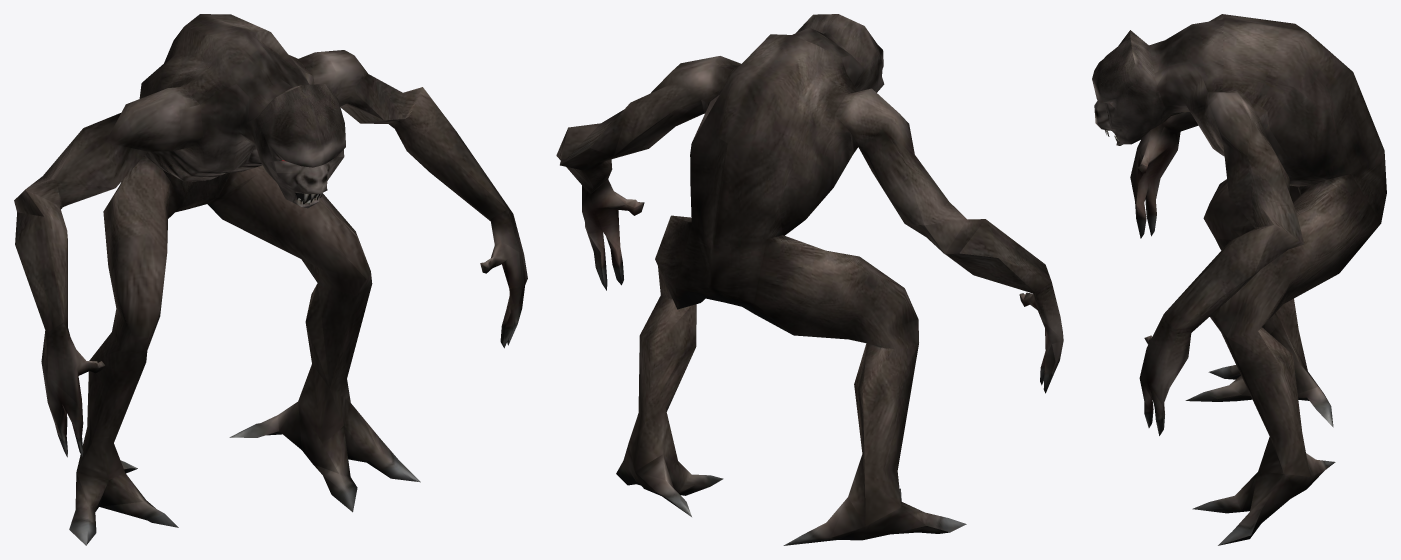
File: monkey.obj
3 renders of one model, left to right at view 1: azimuth 30°, elevation 25°; view 2: azimuth 150°, elevation 25°; view 3: azimuth 270°, elevation 25°, orthographic. The views are drawn at different scales.
Visible parts, largest first — view 1: Group; view 2: Group; view 3: Group.
Part boxes in pixels (x1,y1,x2,y2): Group: (14,14,527,545); Group: (556,14,1063,545); Group: (1092,14,1386,545).
Bounding box in the file's own units: 88.03 × 84.87 × 50.35.
